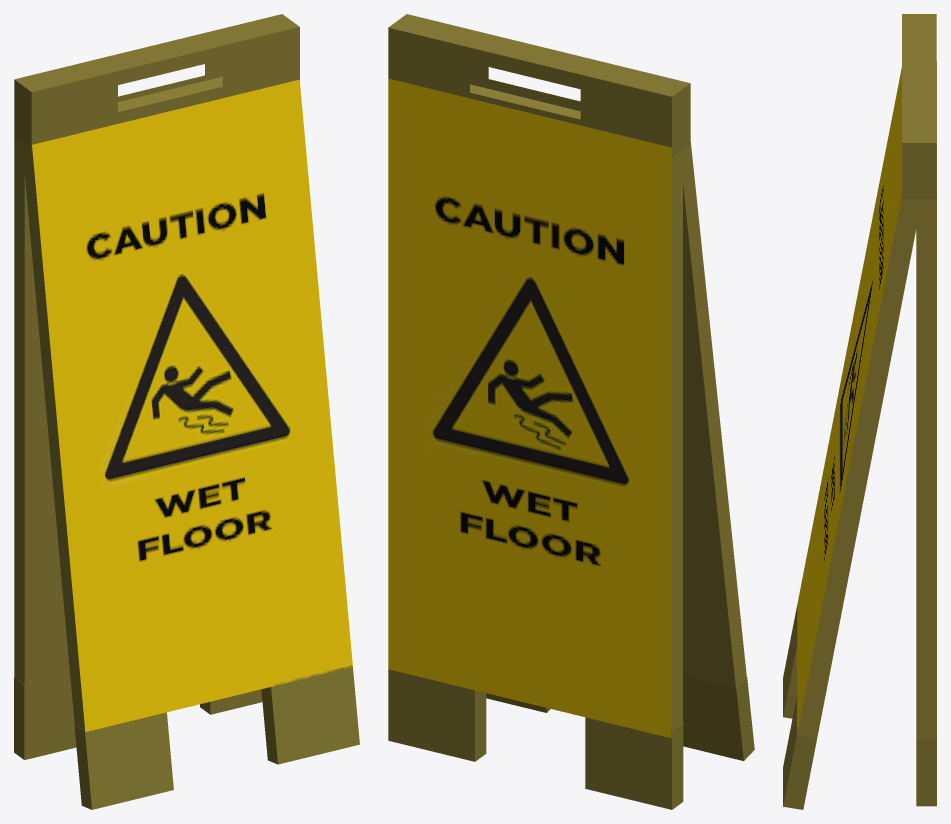
File: WetFloorSign.fbx
3 views of the same model, side by side, from view 1: azimuth 30°, elevation 25°; view 2: azimuth 150°, elevation 25°; view 3: azimuth 270°, elevation 25° (orthographic). The views are drawn at different scales.
Visible parts, largest first — view 1: pCube1, pCube2, pCube3, pCube5, pCube4, pCube7, pCube6; view 2: pCube2, pCube1, pCube3, pCube7, pCube6, pCube4; view 3: pCube1, pCube2, pCube3, pCube5, pCube6, pCube4.
Part boxes in pixels (box(x1,y1,x2,y2)): pCube1: box(22, 79, 352, 731); pCube2: box(14, 76, 222, 684); pCube3: box(14, 14, 299, 149); pCube5: box(261, 665, 359, 764); pCube4: box(74, 712, 173, 809); pCube7: box(14, 674, 76, 759); pCube6: box(200, 689, 262, 714); pCube2: box(388, 78, 682, 738); pCube1: box(470, 84, 746, 689); pCube3: box(388, 14, 690, 157); pCube7: box(585, 717, 683, 809); pCube6: box(388, 669, 486, 761); pCube4: box(683, 675, 754, 760); pCube1: box(797, 67, 921, 738); pCube2: box(916, 61, 936, 739); pCube3: box(902, 14, 936, 199); pCube5: box(783, 695, 816, 809); pCube6: box(916, 740, 936, 806); pCube4: box(783, 605, 797, 718).
Size of the model in its own units: 2.46 by 5.93 by 1.24.
